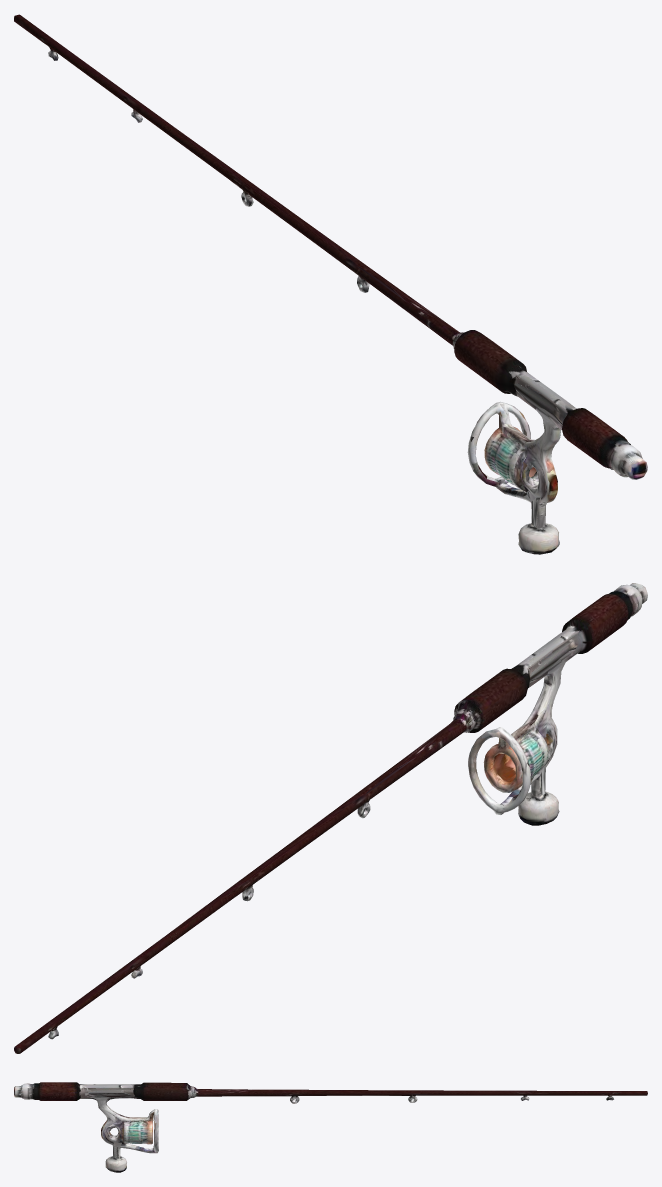
File: rod.glb
3 renders of one model, top to bottom at view 1: azimuth 30°, elevation 25°; view 2: azimuth 150°, elevation 25°; view 3: azimuth 270°, elevation 25°, orthographic. The views are drawn at different scales.
Parts seen in each view (by area): view 1: rod; view 2: rod; view 3: rod.
Part boxes in pixels (left/top/right/bottom): rod: left=14, top=14, right=647, bottom=554; rod: left=14, top=583, right=647, bottom=1053; rod: left=14, top=1082, right=647, bottom=1172.
Size of the model in its own units: 0.0565 by 0.1517 by 1.
Materials: 1 (1 with a texture image).
